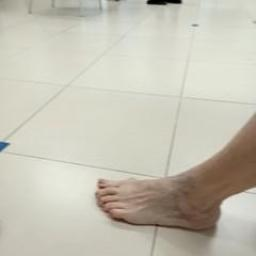Lateral View -Left Foot-: (78, 148, 242, 248)
